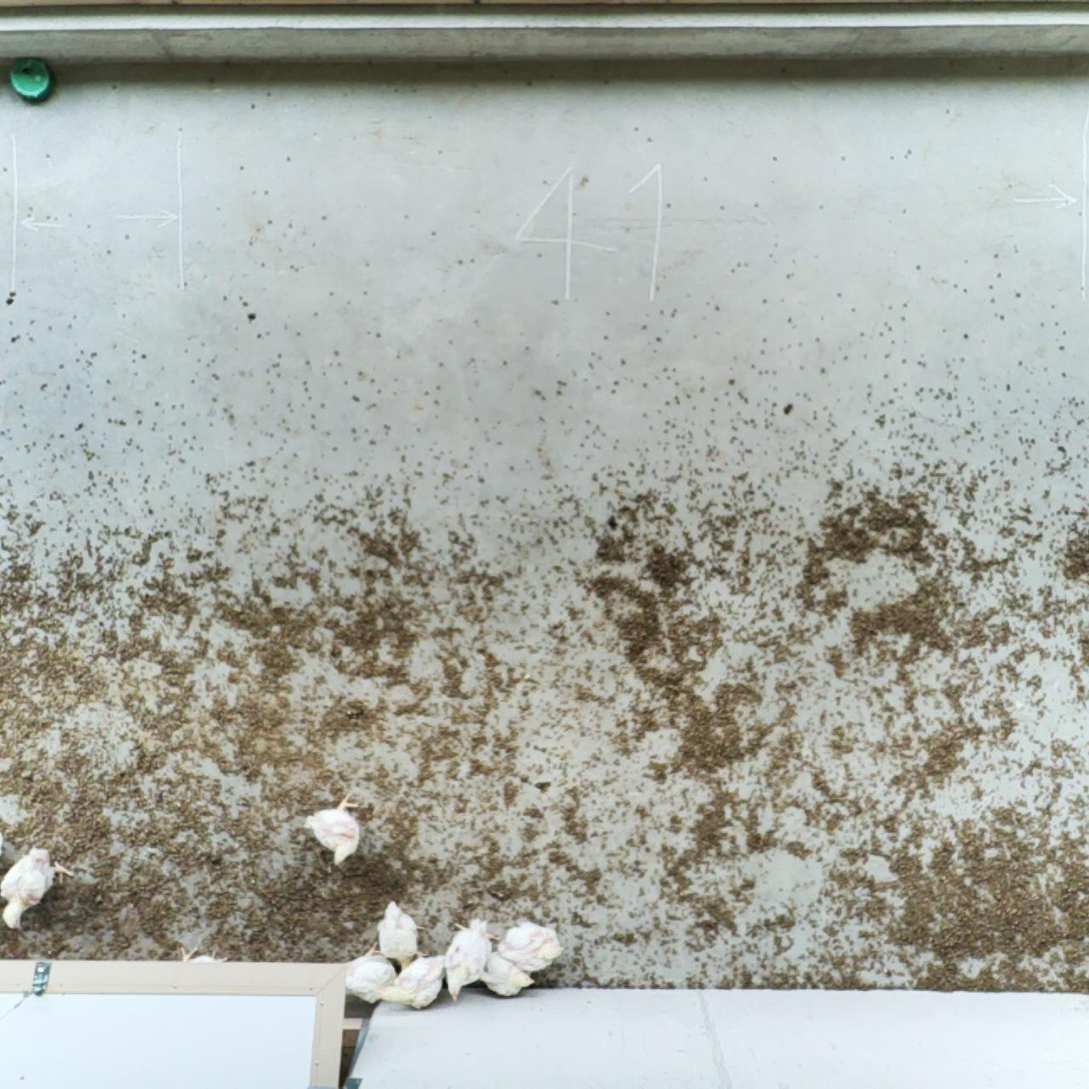chicken: (0, 835, 78, 932), (302, 789, 365, 867), (445, 912, 497, 998), (379, 951, 450, 1012), (372, 897, 426, 977), (336, 942, 398, 1007), (492, 920, 567, 972), (475, 944, 537, 1001)
